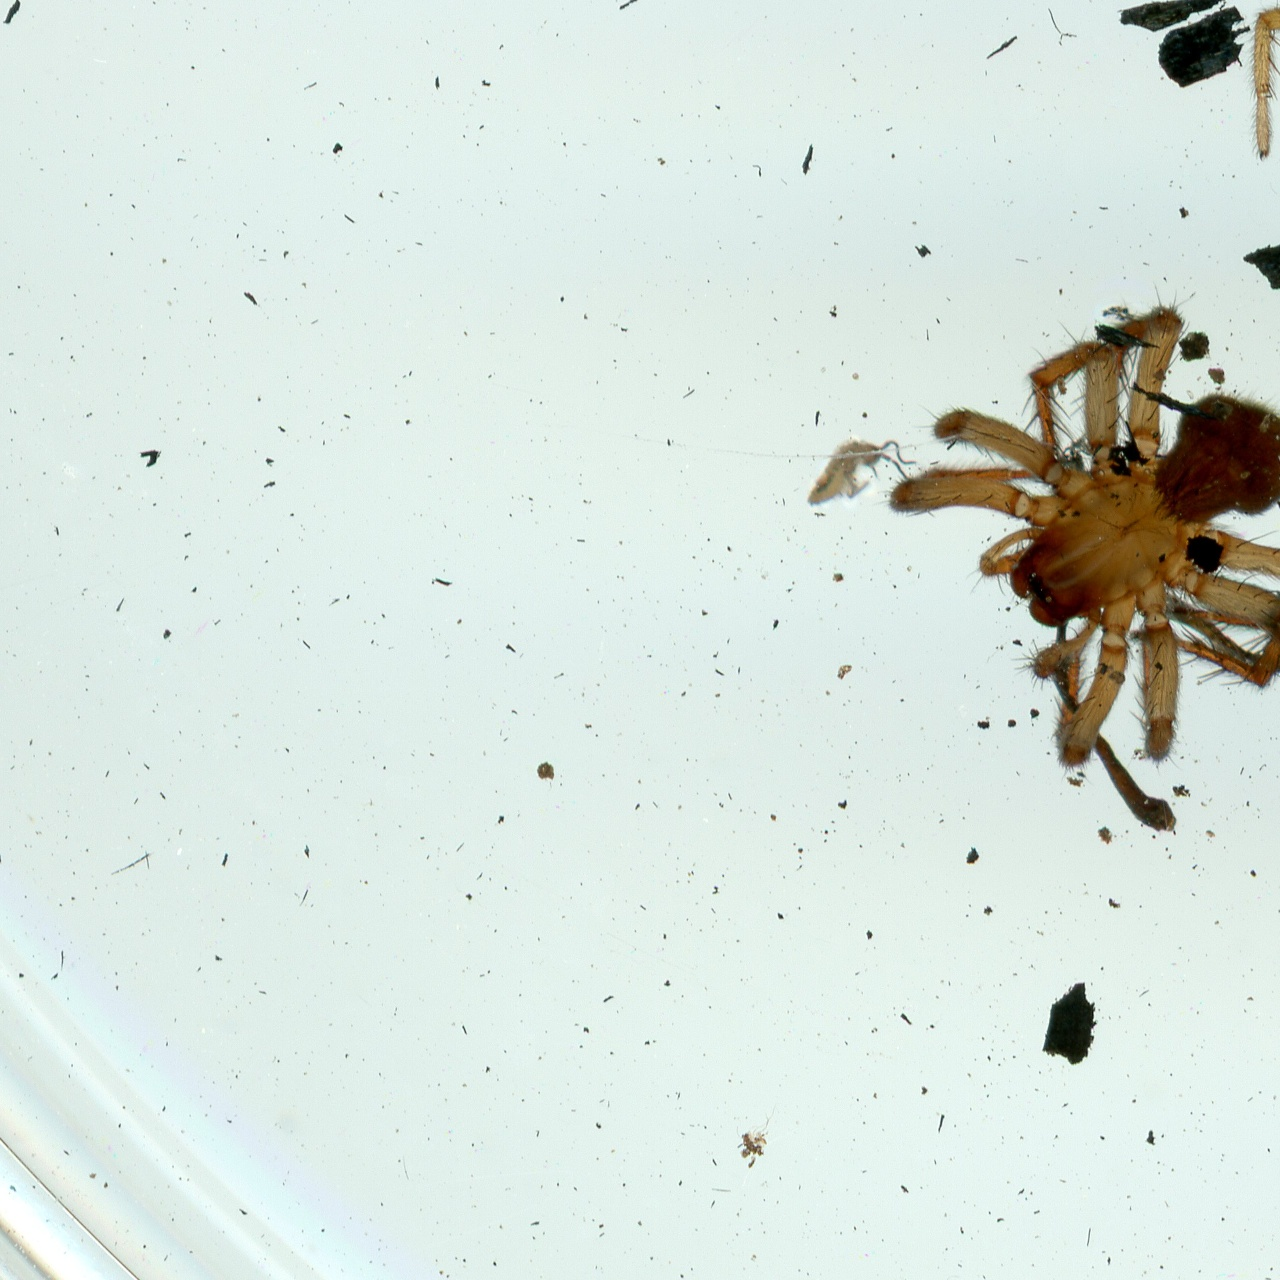arthropod: (872, 268, 1280, 787), (801, 435, 919, 512)
